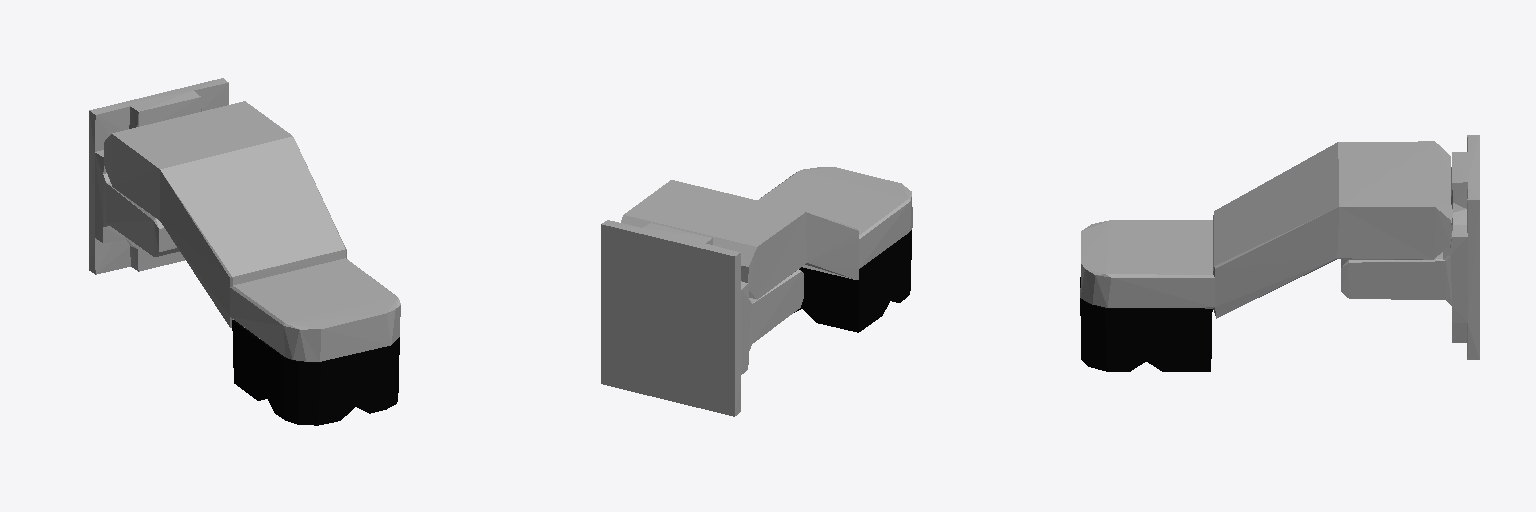
The model's file is panda_left_leftfinger_geometry_panda_leftfinger.obj.
3 views of the same model, side by side, from view 1: azimuth 30°, elevation 25°; view 2: azimuth 150°, elevation 25°; view 3: azimuth 270°, elevation 25° (orthographic).
Bounding box in the file's own units: 0.021 × 0.0264 × 0.0538.